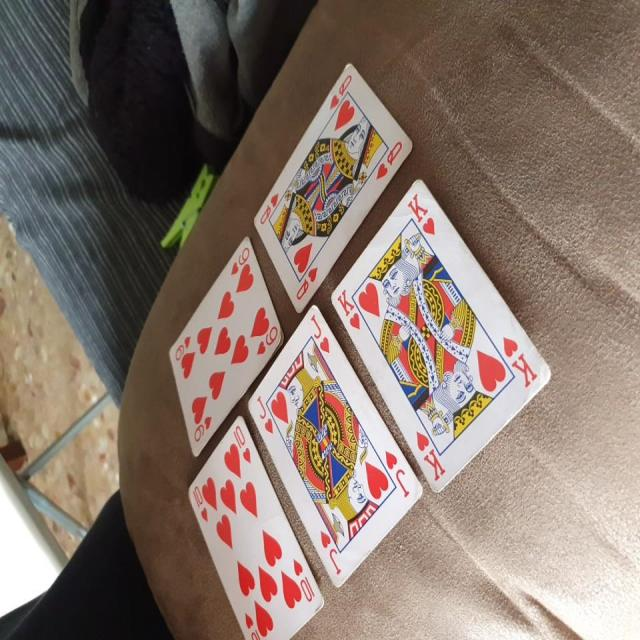10 Hearts: (182, 416, 328, 631)
9 Hearts: (153, 225, 284, 468)
J Hearts: (244, 304, 426, 599)
K Hearts: (325, 177, 553, 499)
Q Hearts: (247, 58, 416, 314)
